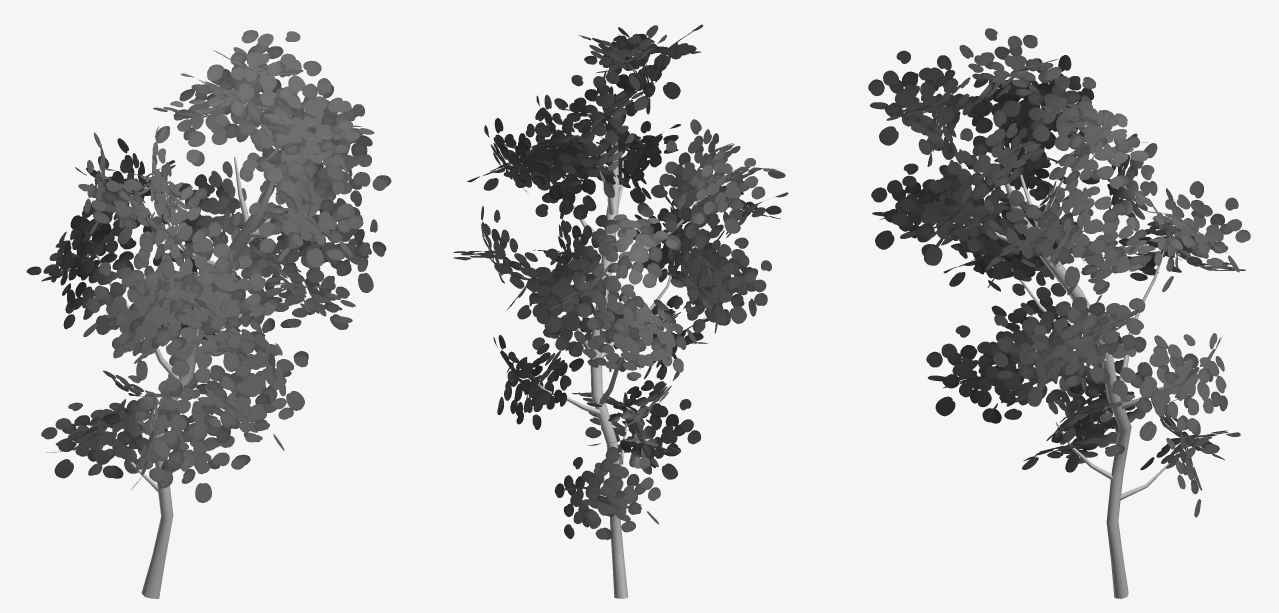
Rendered from SM_Bush_04.fbx.
The picture shows the model from 3 angles, left to right: view 1: azimuth 30°, elevation 25°; view 2: azimuth 150°, elevation 25°; view 3: azimuth 270°, elevation 25°; orthographic projection. The views are drawn at different scales.
Visible parts, largest first — view 1: SM_Bush_04_LOD0; view 2: SM_Bush_04_LOD0; view 3: SM_Bush_04_LOD0.
Boxes of the visible parts, bbox=[...] form: SM_Bush_04_LOD0: bbox=[26, 30, 391, 598]; SM_Bush_04_LOD0: bbox=[453, 24, 788, 598]; SM_Bush_04_LOD0: bbox=[868, 28, 1250, 598].
Size of what is drawn, in the model's own units: 1.27 by 1.94 by 1.27.
